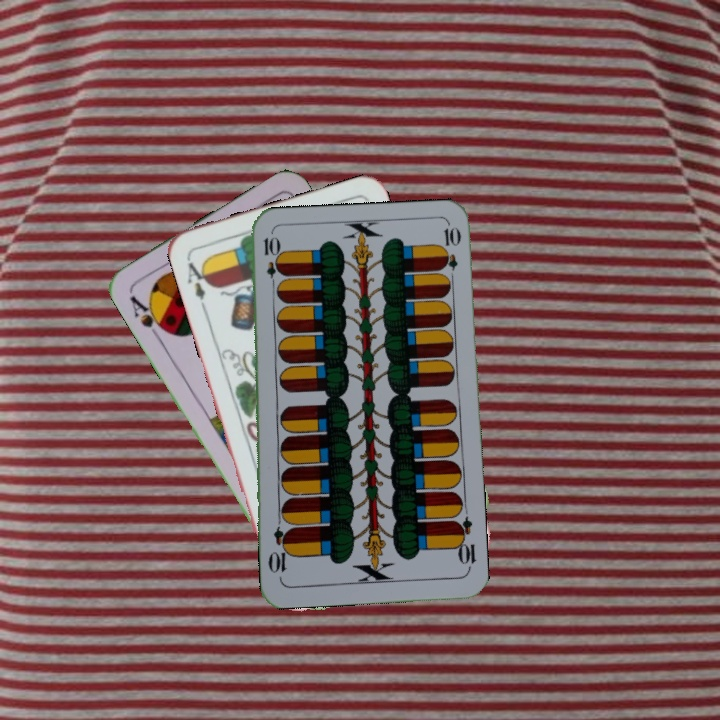E10: (450, 514, 478, 573), (260, 233, 280, 292)
EA: (183, 254, 213, 312)
SA: (126, 292, 171, 342)
